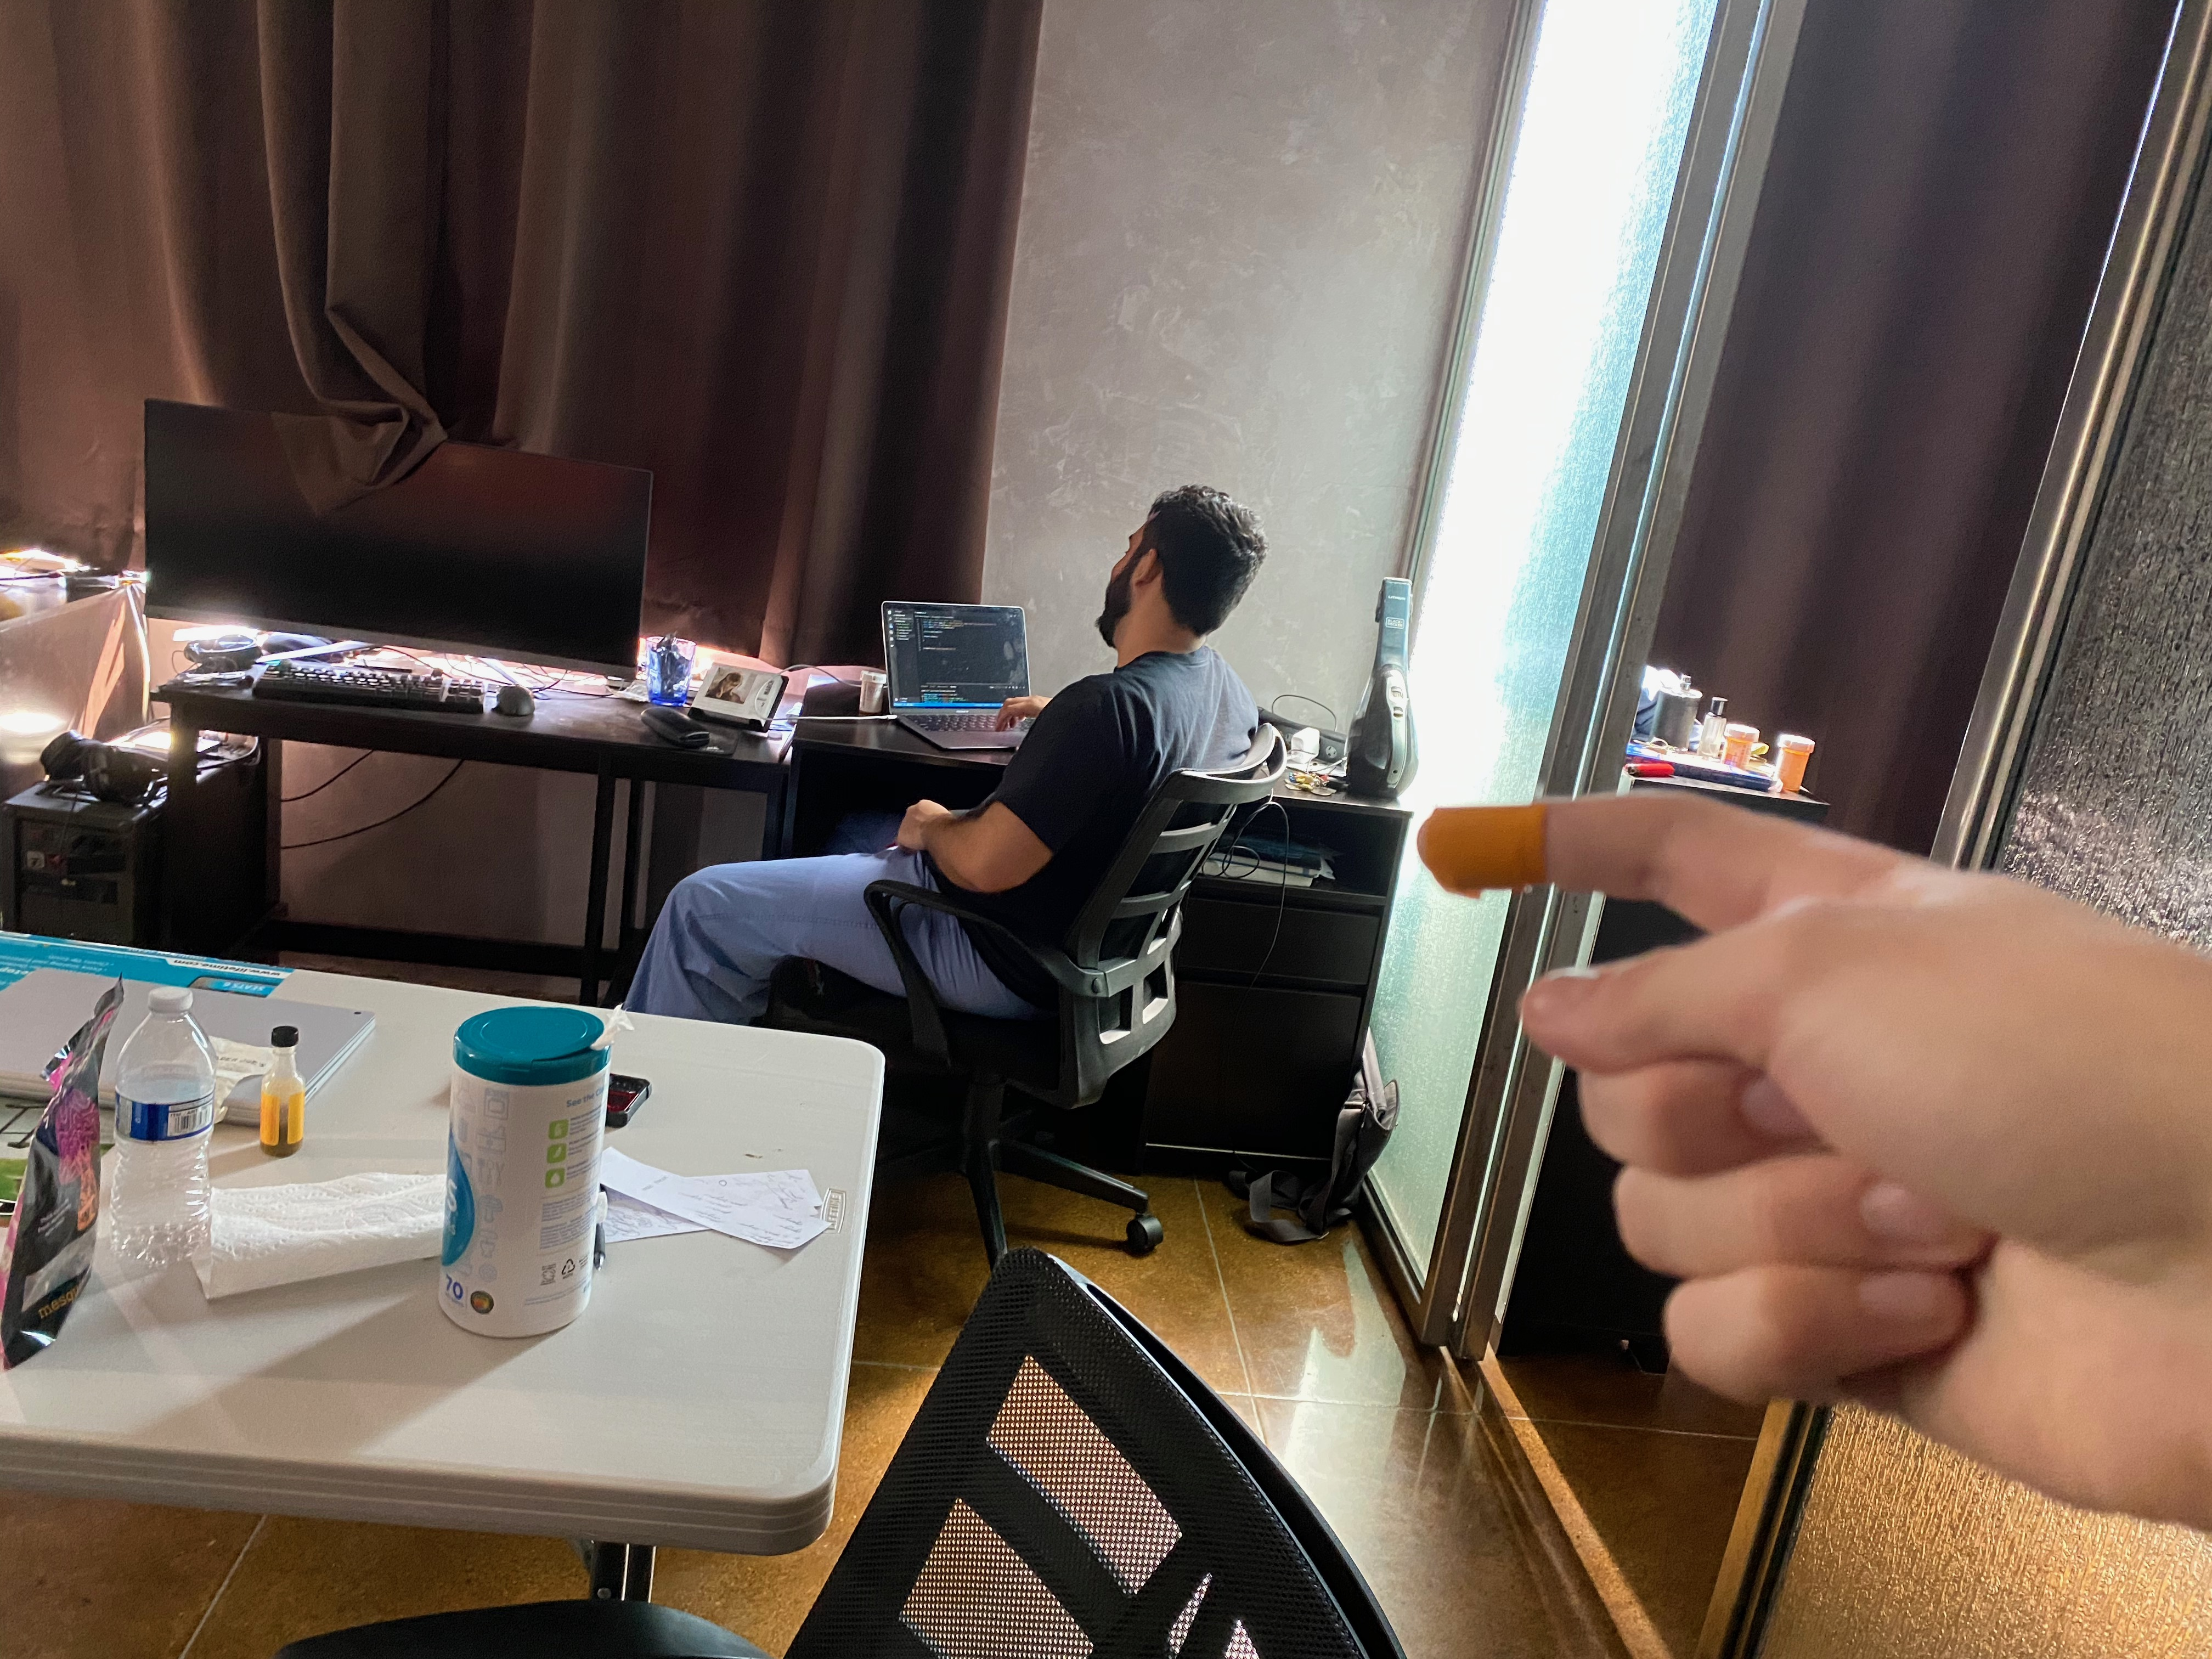fingertip: (1404, 788, 1543, 925)
